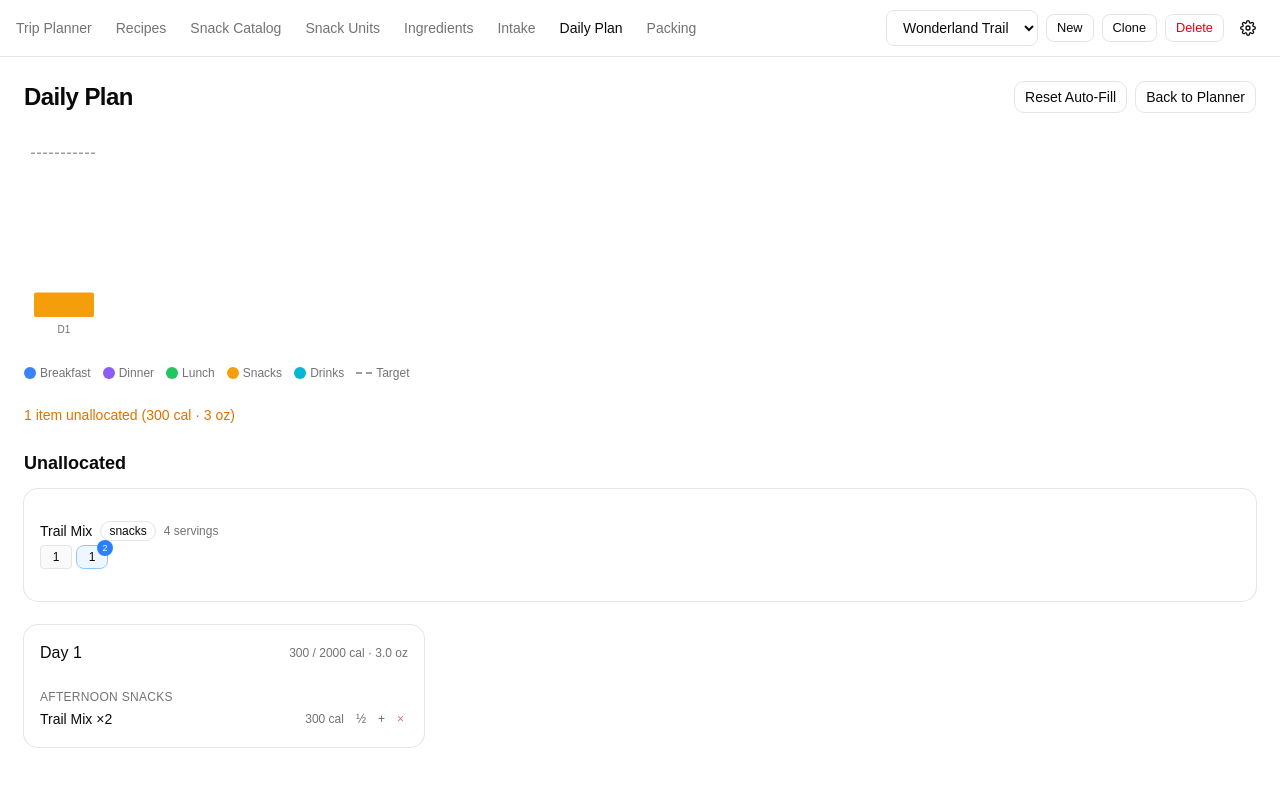
Test: DailyPlanPage › a failed assignment surfaces a visible error and leaves the page usable
Click the button named "Assign Trail Mix to day 1". click: (92, 557)
box: [76,545,108,569]
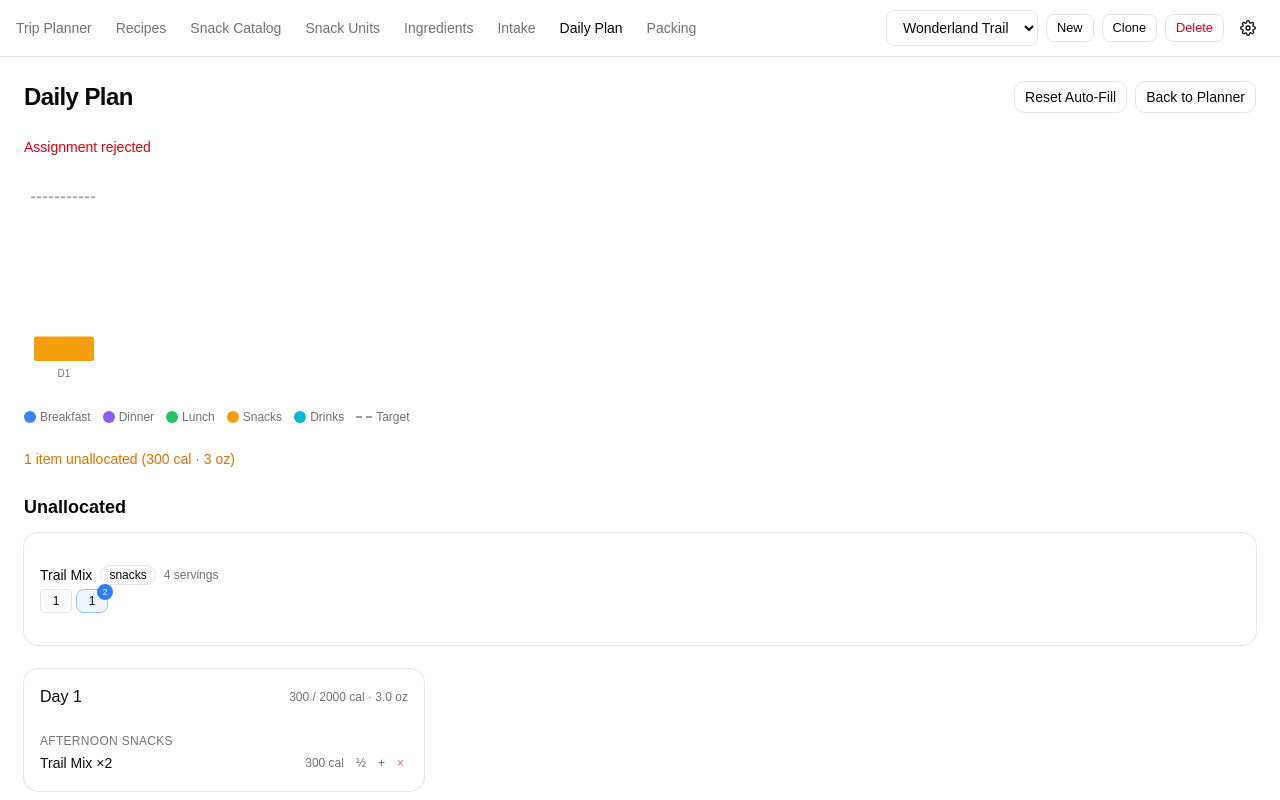
Expected: the button named "Assign Trail Mix to day 1" is enabled, [76,589,108,613]
Result: the text "Assignment rejected" is shown at [24,139,151,155]
